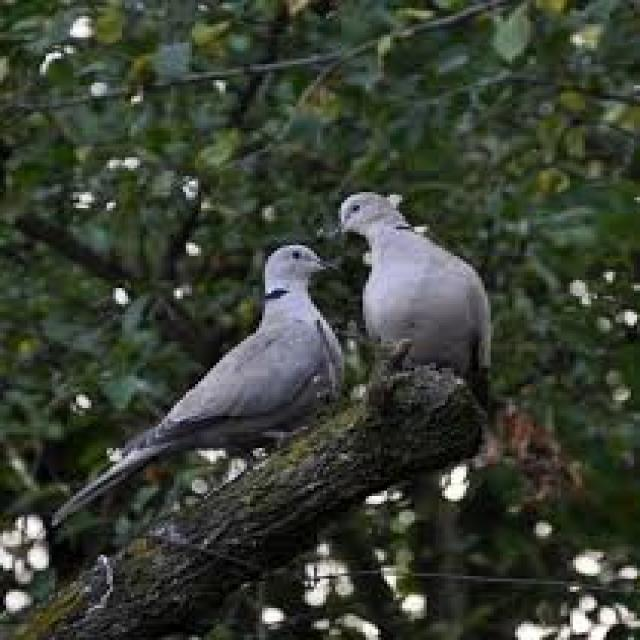pigeon: (89, 198, 350, 499)
